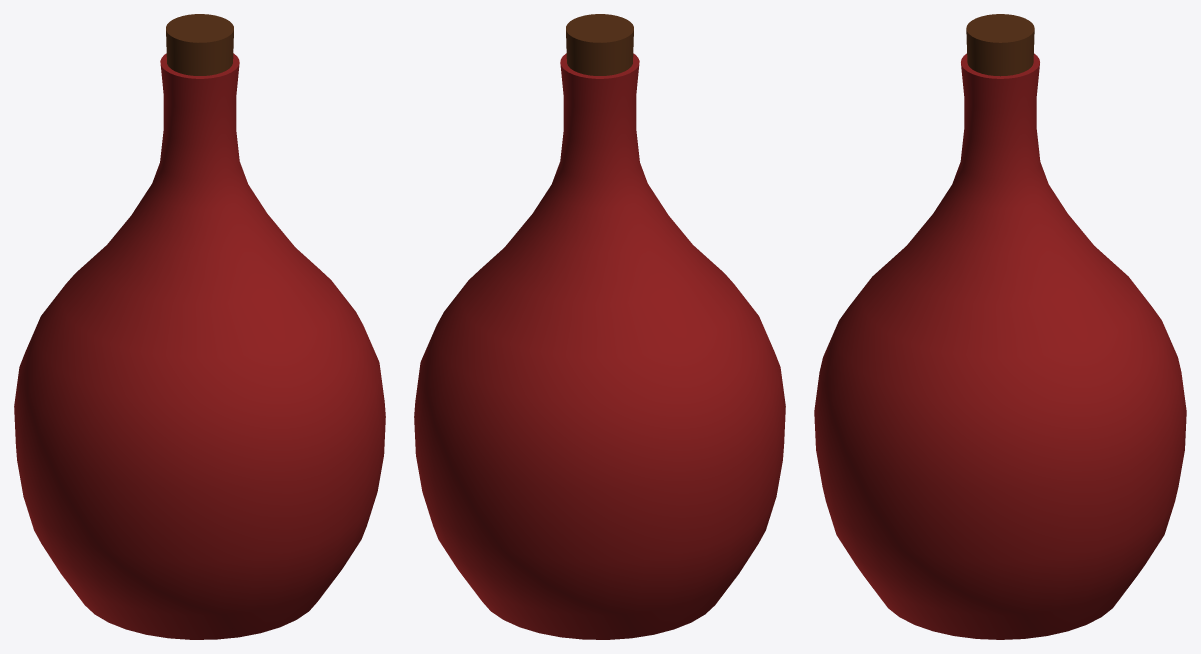
Rendered from Potion.fbx.
3 views of the same model, side by side, from view 1: azimuth 30°, elevation 25°; view 2: azimuth 150°, elevation 25°; view 3: azimuth 270°, elevation 25° (orthographic).
Visible parts, largest first — view 1: Potion; view 2: Potion; view 3: Potion.
Part boxes in pixels (left/top/right/bottom): Potion: left=14, top=14, right=385, bottom=639; Potion: left=414, top=14, right=785, bottom=639; Potion: left=814, top=14, right=1186, bottom=639.
Size of the model in its own units: 140 by 232 by 140.
1 material, 1 textured.
